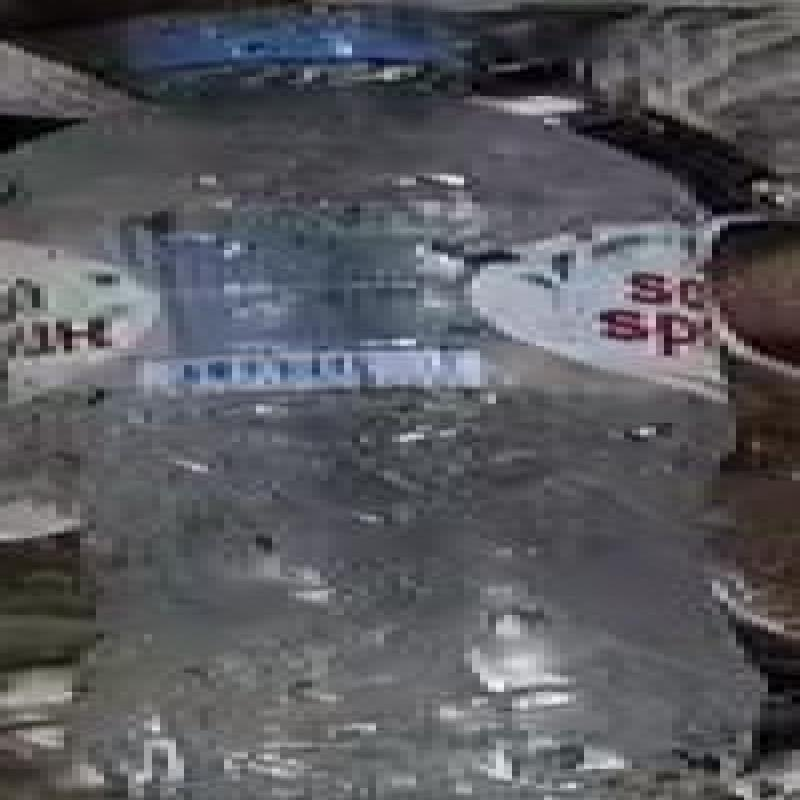botella: (16, 5, 800, 800)
